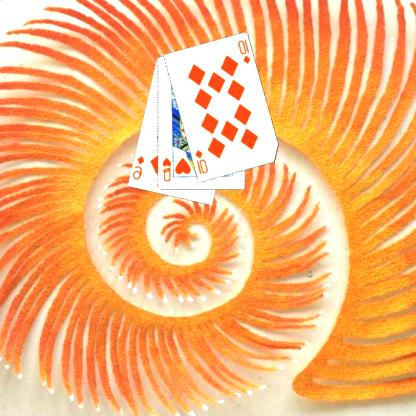10D: (237, 36, 253, 66), (194, 148, 211, 176)
9D: (132, 153, 147, 181)
QH: (161, 155, 174, 183)
